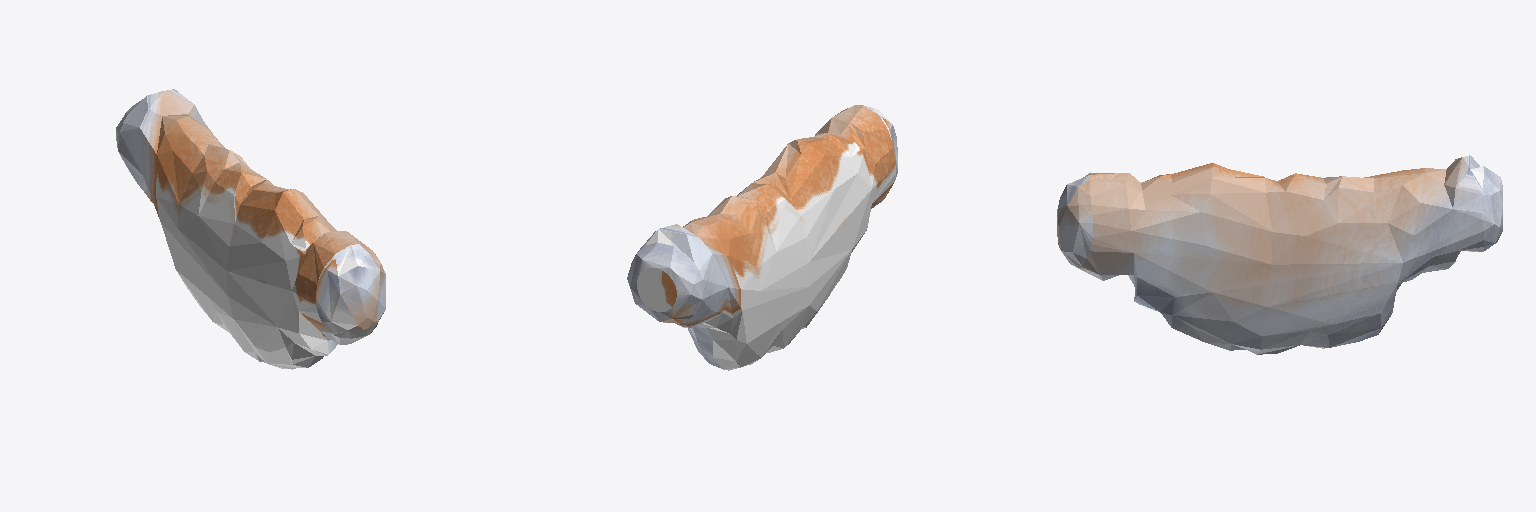
The picture shows the model from 3 angles: view 1: azimuth 30°, elevation 25°; view 2: azimuth 150°, elevation 25°; view 3: azimuth 270°, elevation 25°; orthographic projection.
Parts seen in each view (by area): view 1: cloud2:Body1group1 group; view 2: cloud2:Body1group1 group; view 3: cloud2:Body1group1 group.
Boxes of the visible parts, x1,y1,x2,y2 form: cloud2:Body1group1 group: [116, 89, 385, 369]; cloud2:Body1group1 group: [627, 105, 897, 370]; cloud2:Body1group1 group: [1057, 155, 1502, 354].
Bounding box in the file's own units: 0.7655 × 1.97 × 4.03.
Materials: 1 (1 with a texture image).